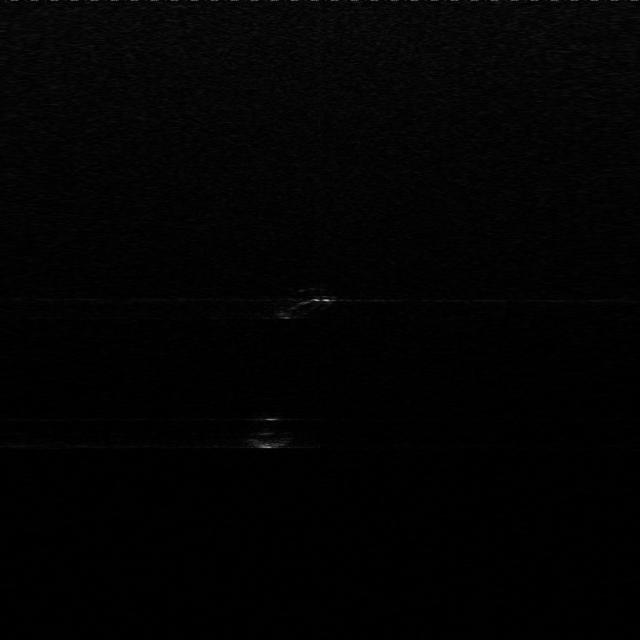ball: (227, 407, 306, 452)
tyre: (274, 280, 340, 326)
